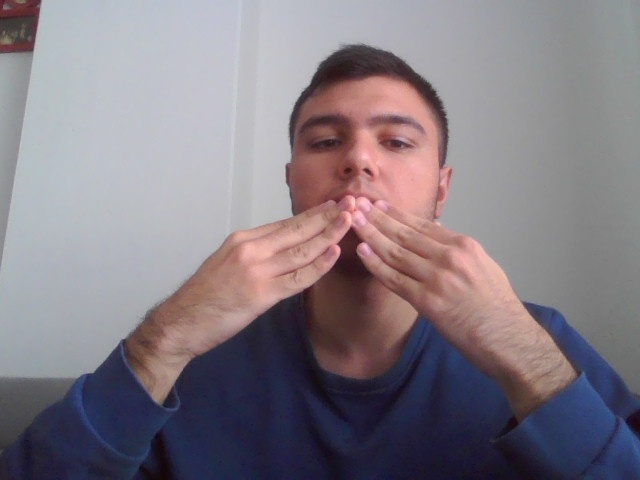thanks: (149, 203, 578, 382)
